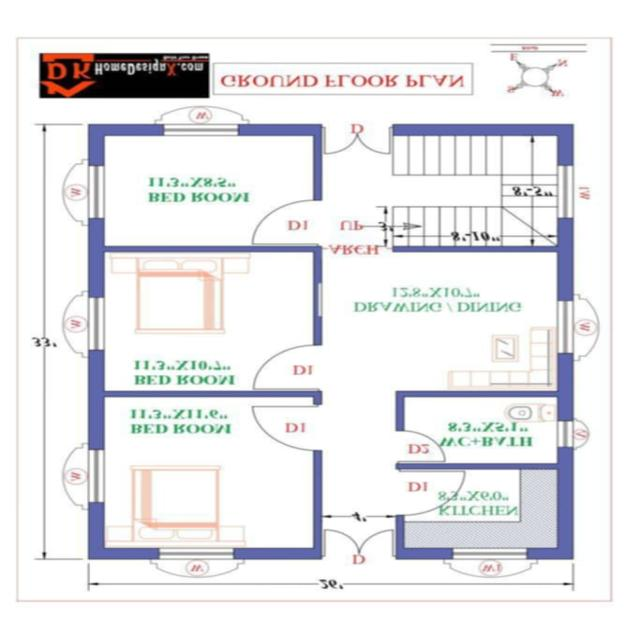column: (80, 122, 114, 144), (82, 541, 112, 565), (548, 543, 580, 565), (301, 121, 331, 143), (551, 384, 581, 402), (82, 386, 112, 403), (82, 239, 110, 257), (550, 240, 578, 258), (554, 122, 578, 142), (304, 544, 328, 564)
